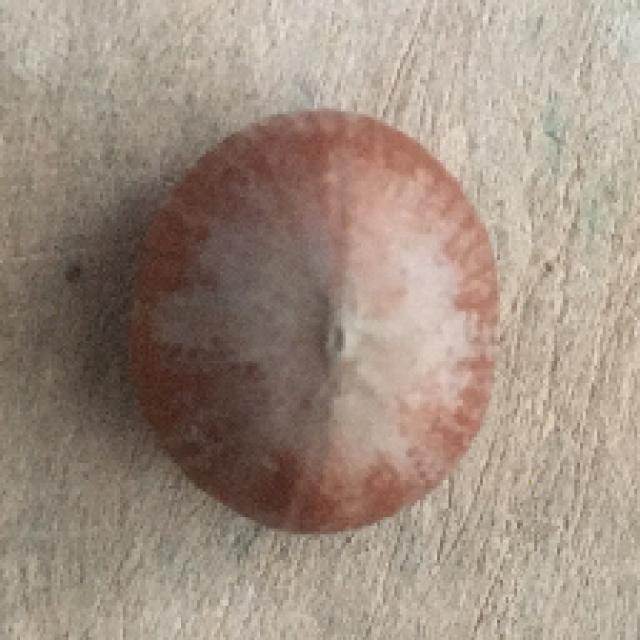qualityHazelnut: (128, 99, 504, 540)
